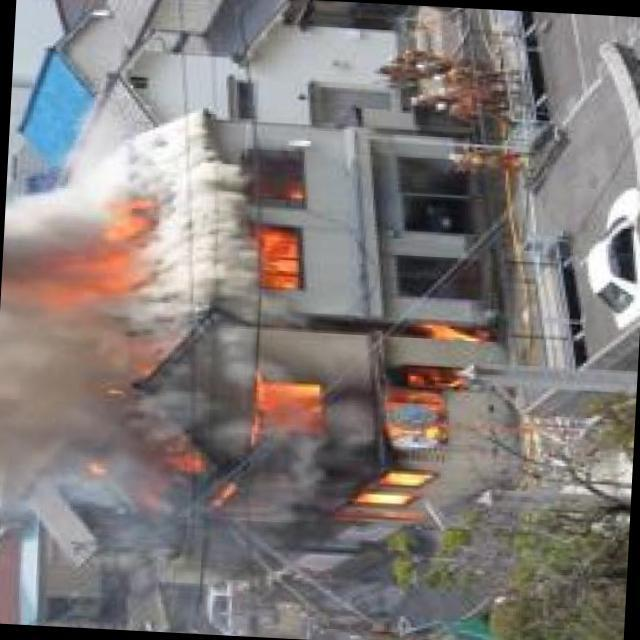Fire: (141, 302, 494, 545), (34, 186, 155, 326), (256, 215, 308, 295)
